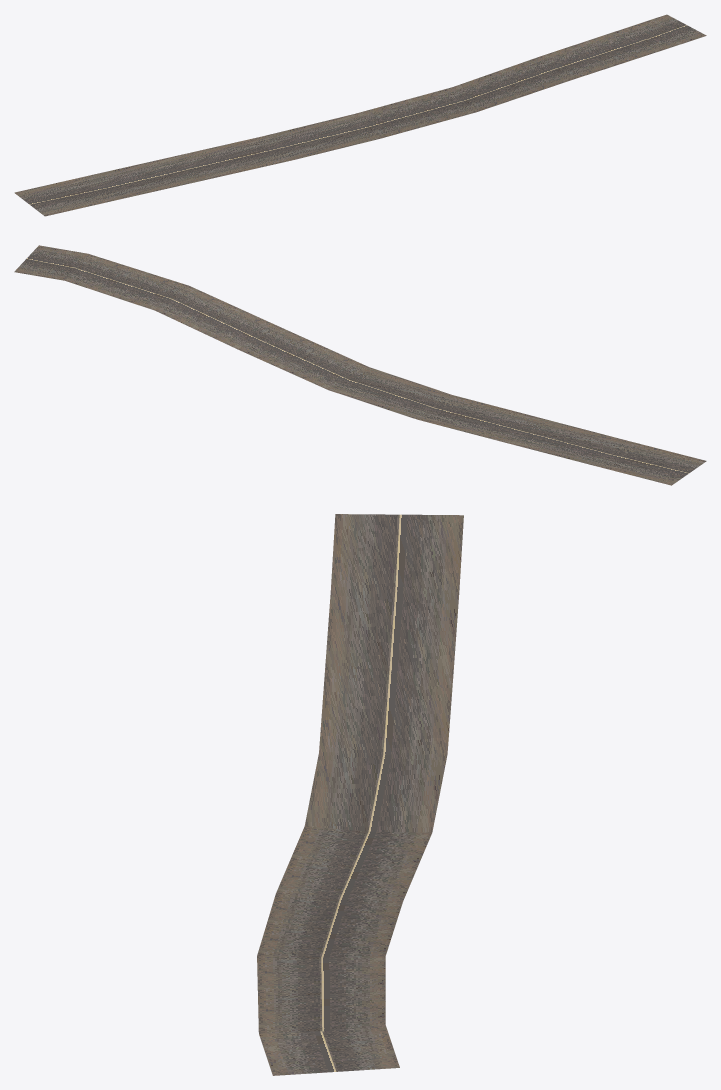
Rendered from cs_lodroads13.obj.
3 views of the same model, one above another, from view 1: azimuth 30°, elevation 25°; view 2: azimuth 150°, elevation 25°; view 3: azimuth 270°, elevation 25° (orthographic). The views are drawn at different scales.
Parts seen in each view (by area): view 1: cs_lodroads13; view 2: cs_lodroads13; view 3: cs_lodroads13.
Part boxes in pixels (<box>): cs_lodroads13: <box>14,14,706,216</box>; cs_lodroads13: <box>14,245,706,485</box>; cs_lodroads13: <box>257,514,463,1075</box>.
Size of the model in its own units: 139 by 7.39 by 19.31.
1 material, 1 textured.
